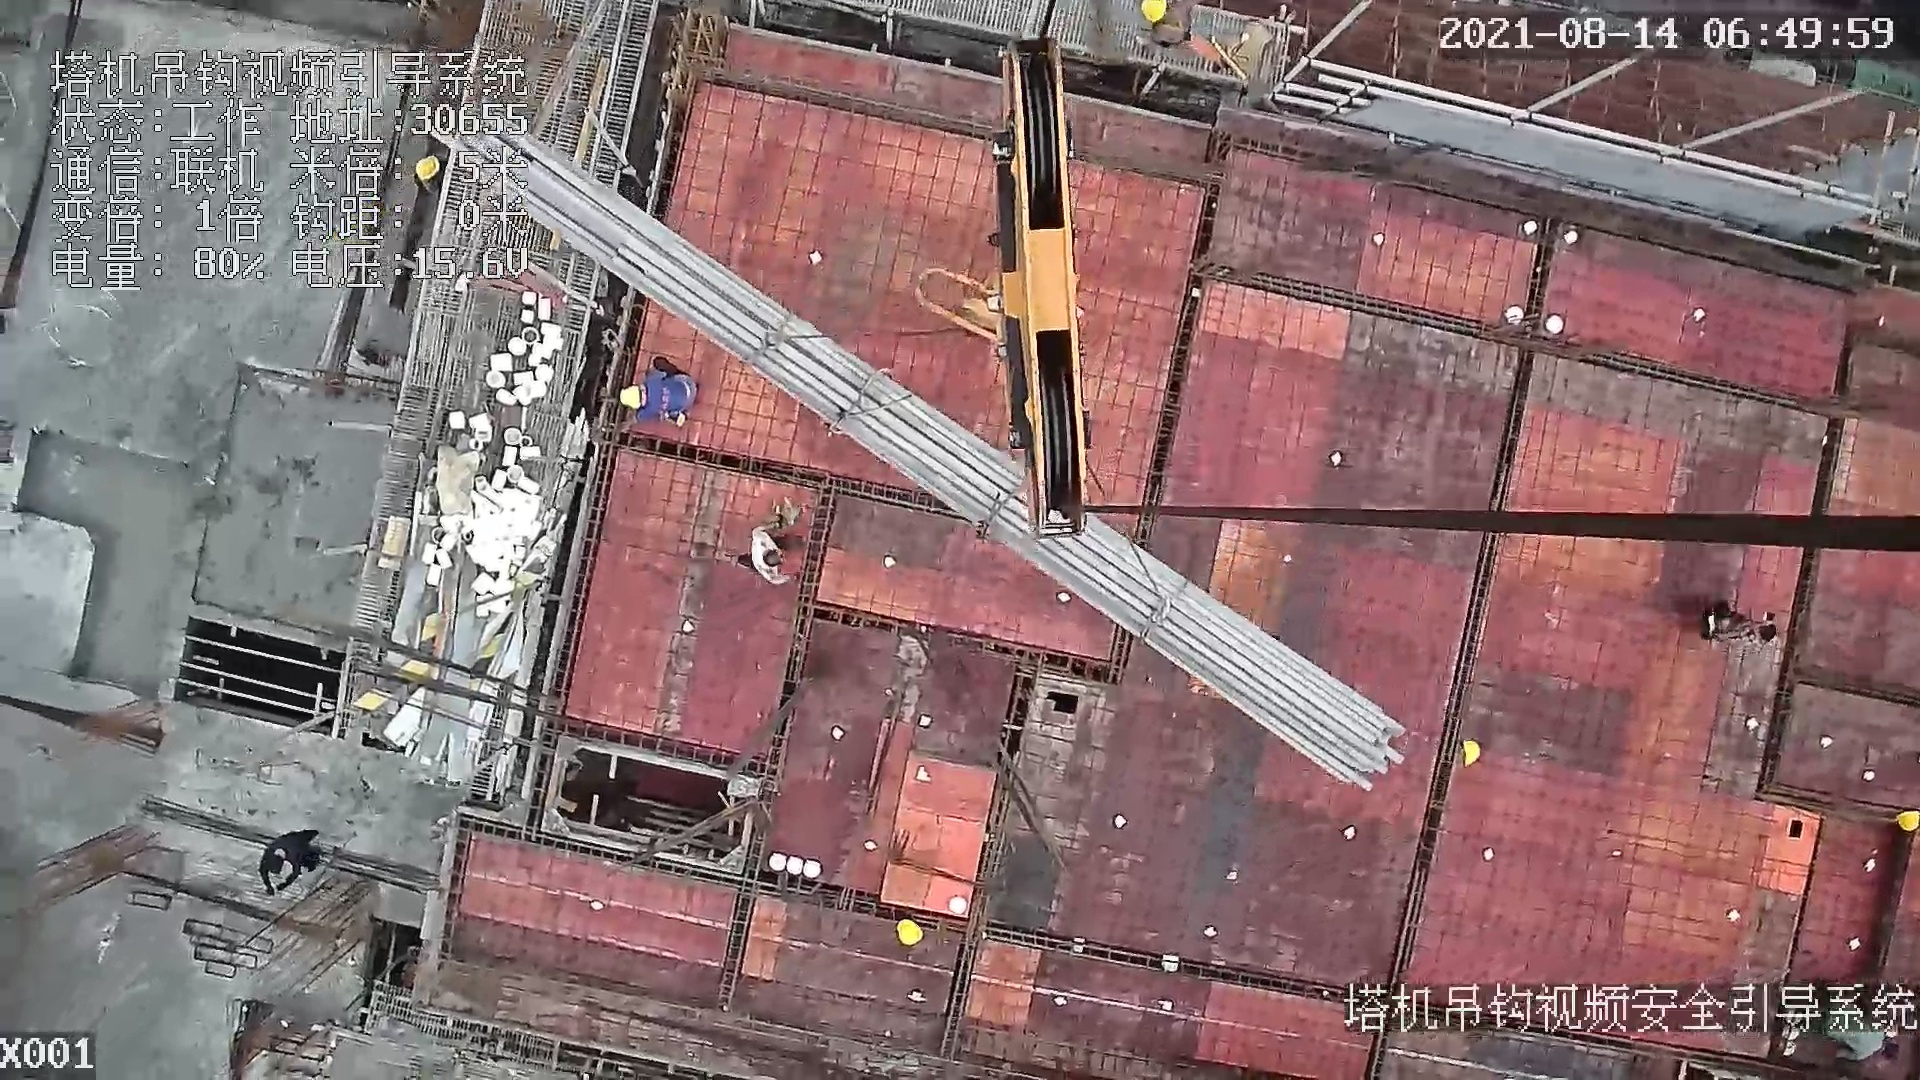helmet: (1450, 731, 1495, 775), (1128, 1, 1182, 28), (893, 911, 926, 952), (1889, 799, 1920, 837), (617, 371, 650, 406), (414, 155, 445, 183)
hook: (906, 32, 1097, 540)
person: (717, 499, 795, 583), (247, 822, 326, 899), (619, 363, 701, 437), (1139, 1, 1200, 58), (411, 156, 456, 200)
